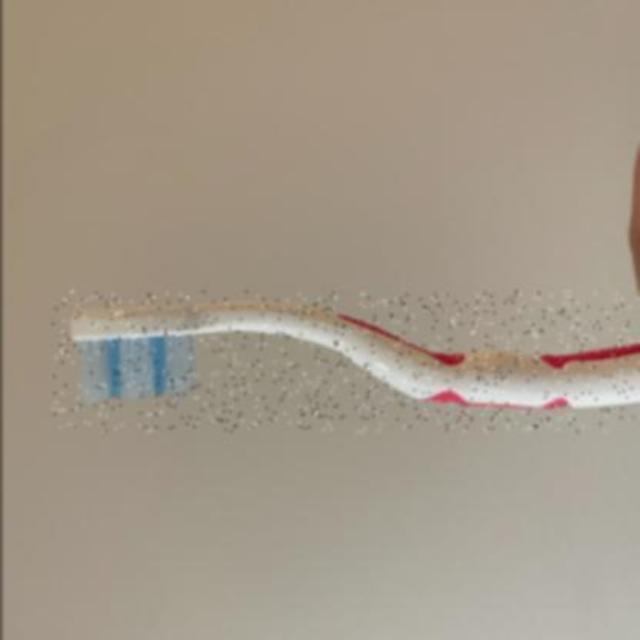toothbrush: (51, 292, 640, 432)
